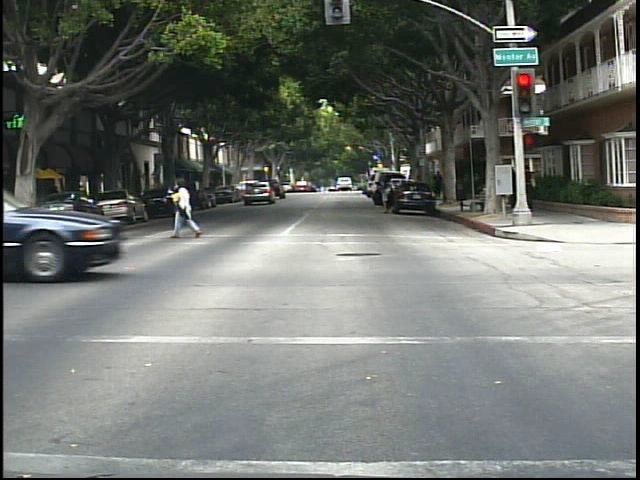person: (166, 173, 202, 242), (373, 172, 399, 216), (433, 168, 448, 199)
